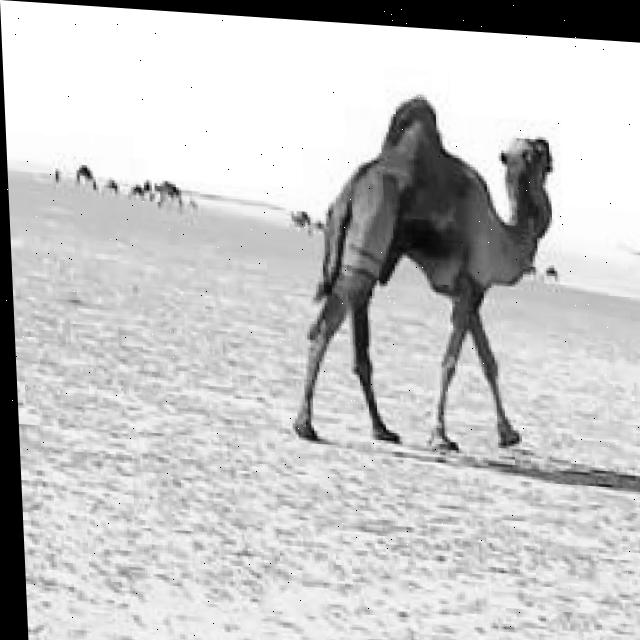Camel: (275, 82, 566, 460)
